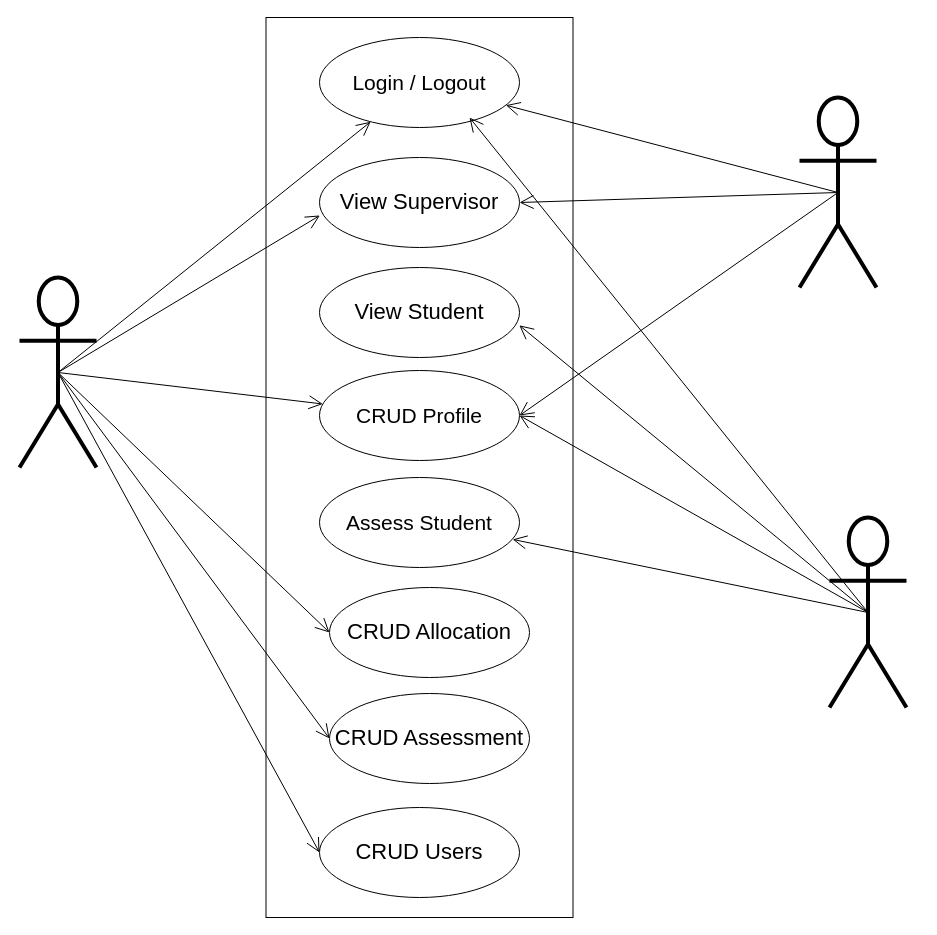
Some shapes in this 937 by 935 pixel diagram are drawn without their labels. The centre of each missing label's shape, as x and y in pixels:
"Admin" belongs at [57,372].
"Student" belongs at [837,192].
"Supervisor" belongs at [867,612].
